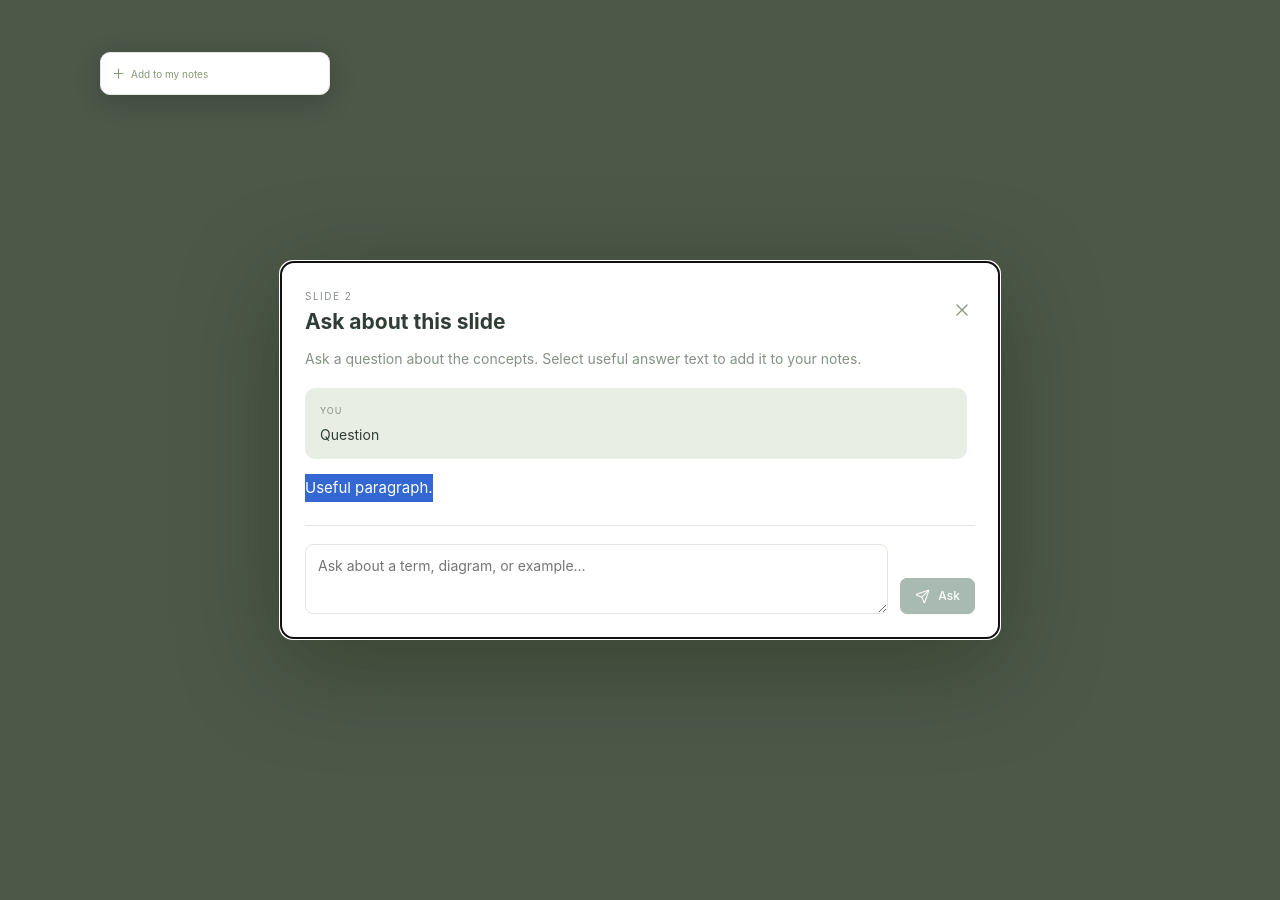
Scenario: adds selected answer text to notes with the latest revision
Click the button "Add to my notes" at (160, 74), box [111,61,208,86]
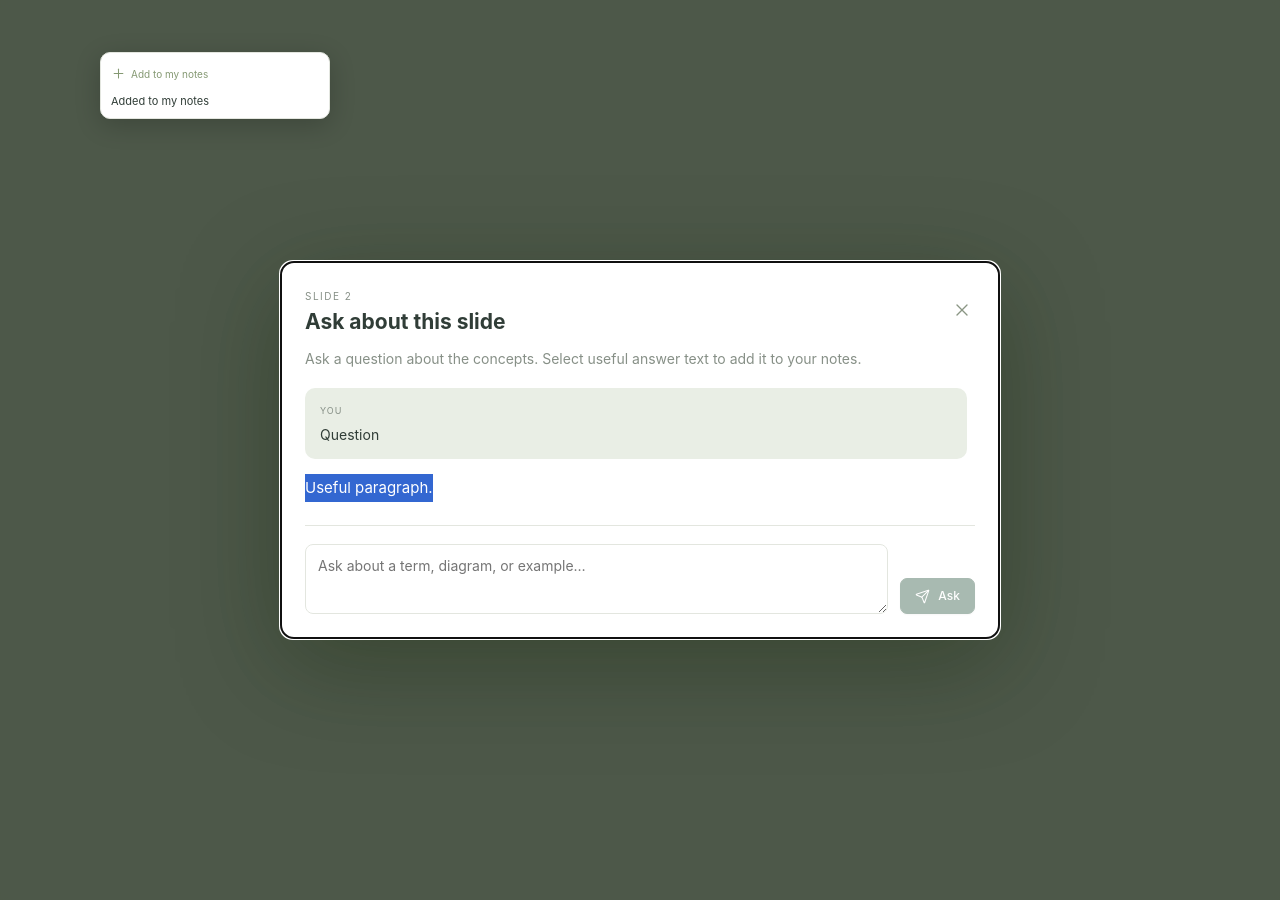
Check: the text "Added to my notes" is shown, box [111,94,209,108]
